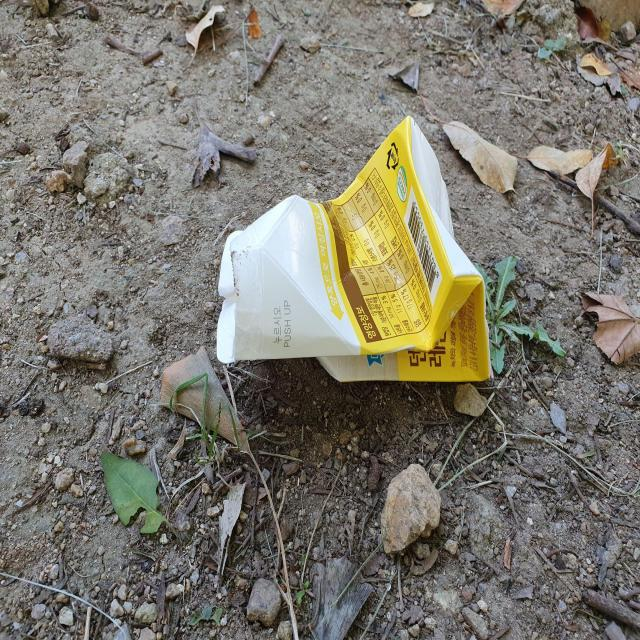paperpack: (216, 116, 491, 382)
